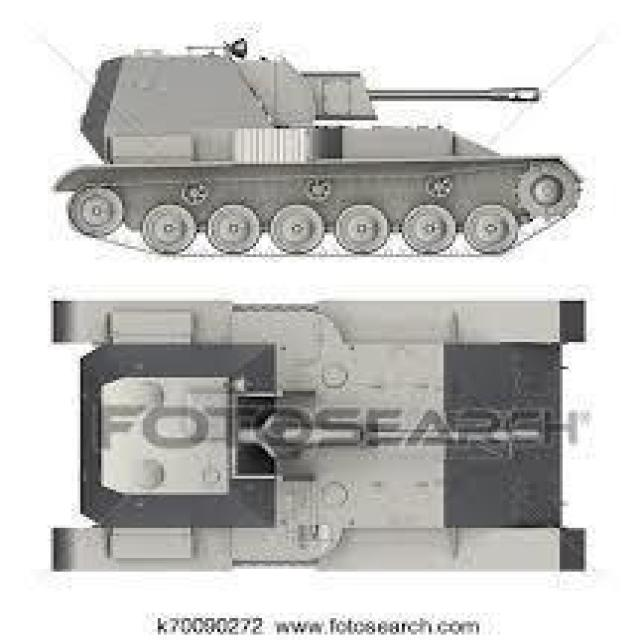Tanks: (25, 264, 612, 600), (52, 10, 591, 261)
